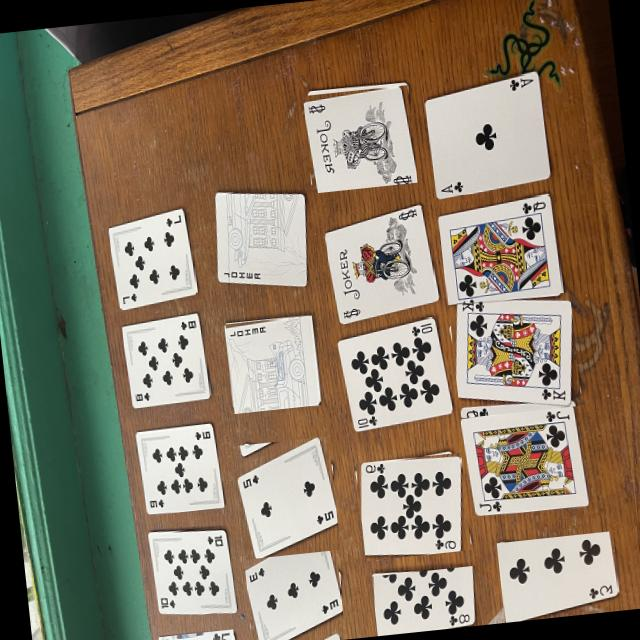10 of clubs: (338, 316, 451, 431), (150, 529, 236, 610)
2 of clubs: (238, 436, 337, 557)
3 of clubs: (497, 530, 618, 622), (246, 542, 342, 640)
7 of clubs: (109, 208, 196, 307)
8 of clubs: (122, 313, 210, 407), (374, 564, 476, 636)
9 of clubs: (364, 454, 461, 551), (136, 424, 225, 511)
Ace of clubs: (425, 72, 550, 196)
Jack of clubs: (462, 404, 589, 514), (159, 628, 233, 640)
Joker: (326, 206, 436, 322), (303, 85, 417, 191), (226, 315, 319, 410), (216, 193, 306, 284)
King of clubs: (457, 299, 571, 405)
Queen of clubs: (438, 194, 563, 312)
